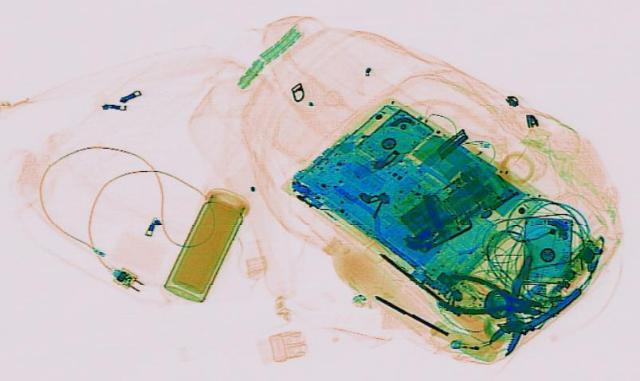Pliers: (454, 253, 598, 360), (426, 270, 552, 326)
